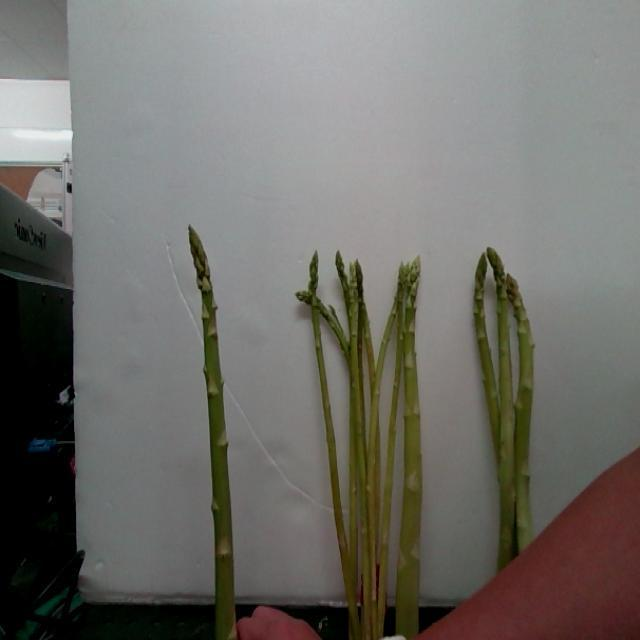aspargus: (187, 229, 237, 640), (394, 255, 424, 640)
